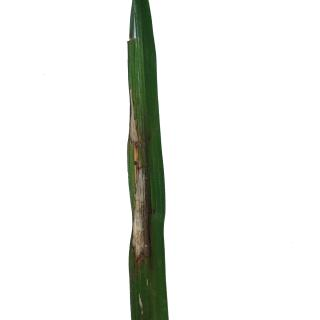Hawar-Daun: (132, 115, 158, 269)
